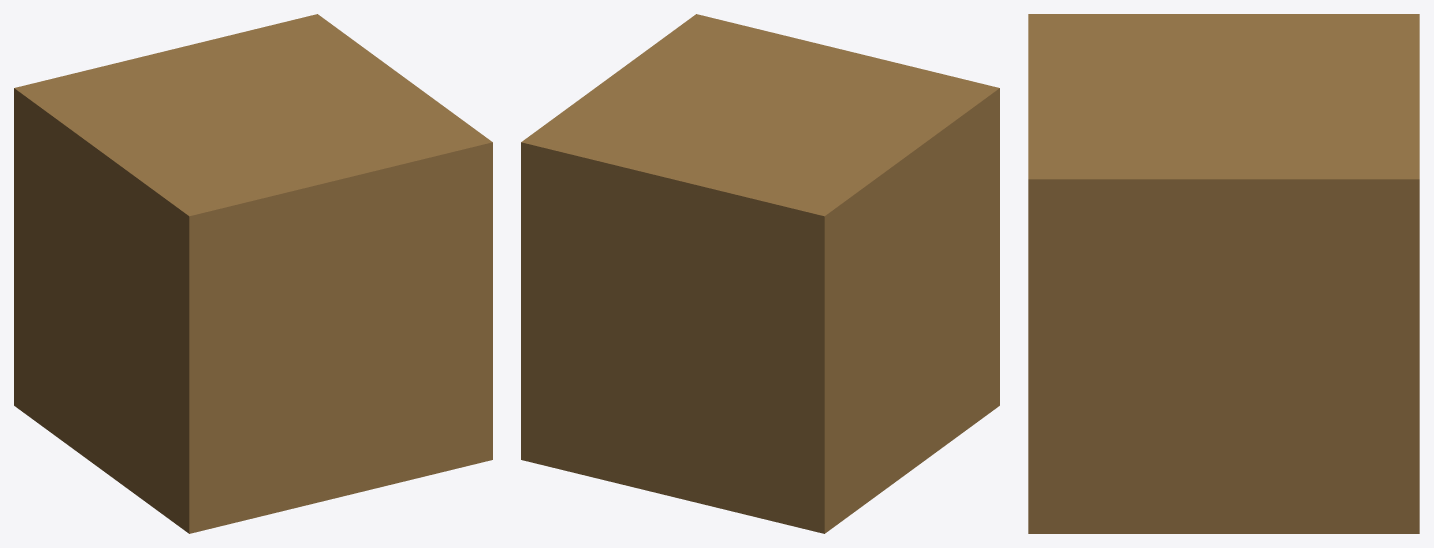
File: SquareGround.fbx
3 views of the same model, side by side, from view 1: azimuth 30°, elevation 25°; view 2: azimuth 150°, elevation 25°; view 3: azimuth 270°, elevation 25° (orthographic). The views are drawn at different scales.
Visible parts, largest first — view 1: Tile_Center; view 2: Tile_Center; view 3: Tile_Center.
Boxes of the visible parts, <box> form: Tile_Center: <box>14,14,492,533</box>; Tile_Center: <box>521,14,999,533</box>; Tile_Center: <box>1028,14,1419,533</box>.
Size of the model in its own units: 200 by 200 by 200.
